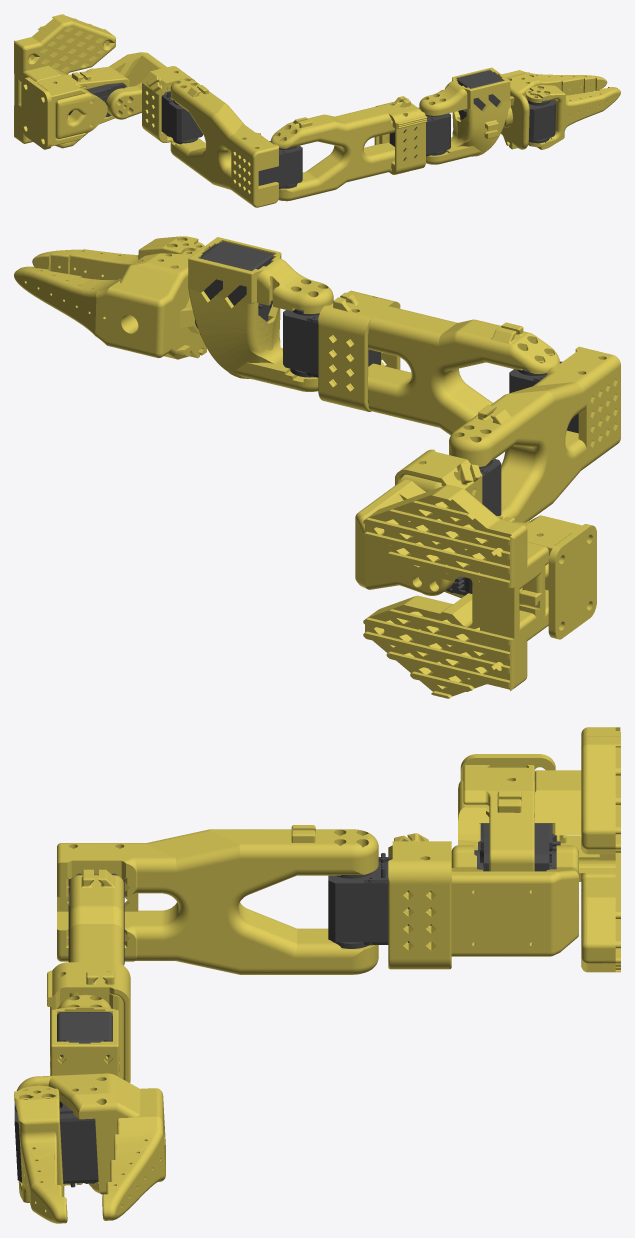
File: follower_idle.glb
The picture shows the model from 3 angles, top to bottom: view 1: azimuth 30°, elevation 25°; view 2: azimuth 150°, elevation 25°; view 3: azimuth 270°, elevation 25°; orthographic projection. The views are drawn at different scales.
Parts seen in each view (by area): view 1: geometry_0; view 2: geometry_0; view 3: geometry_0.
Boxes of the visible parts, x1,y1,x2,y2 form: geometry_0: (14, 14, 620, 207); geometry_0: (14, 236, 620, 698); geometry_0: (14, 727, 620, 1223).
Size of the model in its own units: 0.4296 by 0.1109 by 0.2681.
